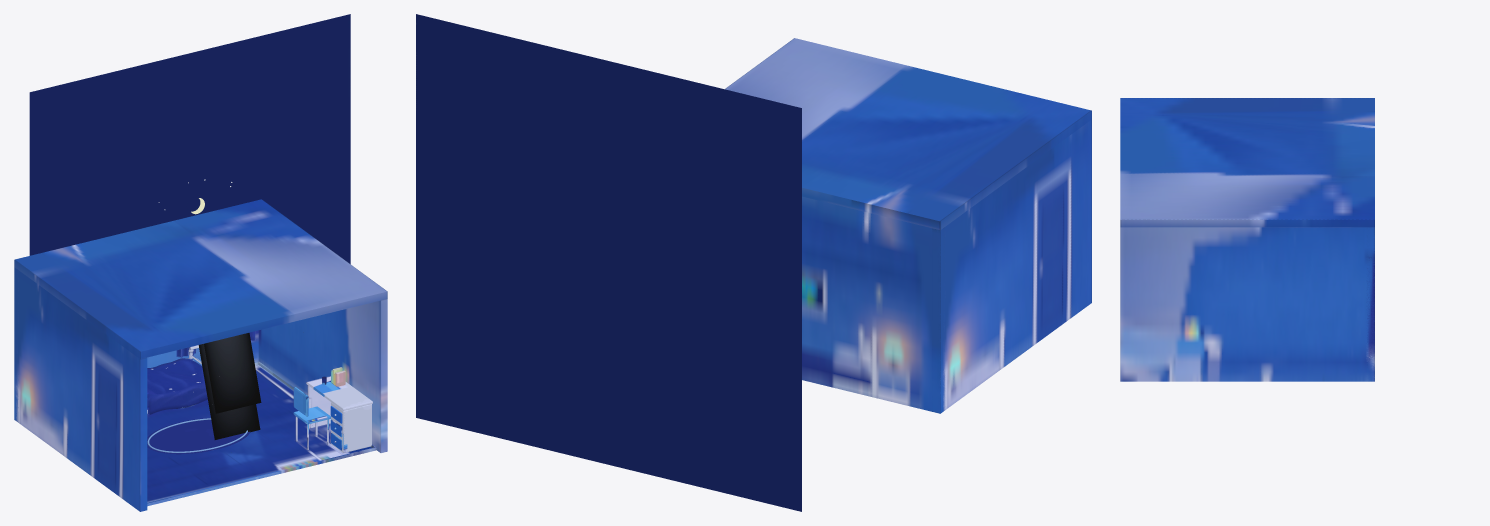
File: quarto.glb
The picture shows the model from 3 angles, left to right: view 1: azimuth 30°, elevation 25°; view 2: azimuth 150°, elevation 25°; view 3: azimuth 270°, elevation 25°; orthographic projection. The views are drawn at different scales.
Visible parts, largest first — view 1: paredes, ceu, piso, escrivaninha, feixe0, cobertor, tapete, feixe1; view 2: ceu, paredes; view 3: paredes.
Part boxes in pixels (x1,y1,x2,y2): paredes: (14, 199, 387, 511); ceu: (29, 14, 350, 263); piso: (147, 365, 371, 502); escrivaninha: (293, 367, 372, 452); feixe0: (204, 333, 261, 413); cobertor: (147, 358, 207, 414); tapete: (147, 418, 250, 454); feixe1: (198, 344, 260, 439); ceu: (416, 14, 801, 511); paredes: (725, 38, 1091, 413); paredes: (1120, 98, 1374, 381).
Size of the model in its own units: 6.62 by 5.5 by 5.22.
Materials: 47 (47 with a texture image).
